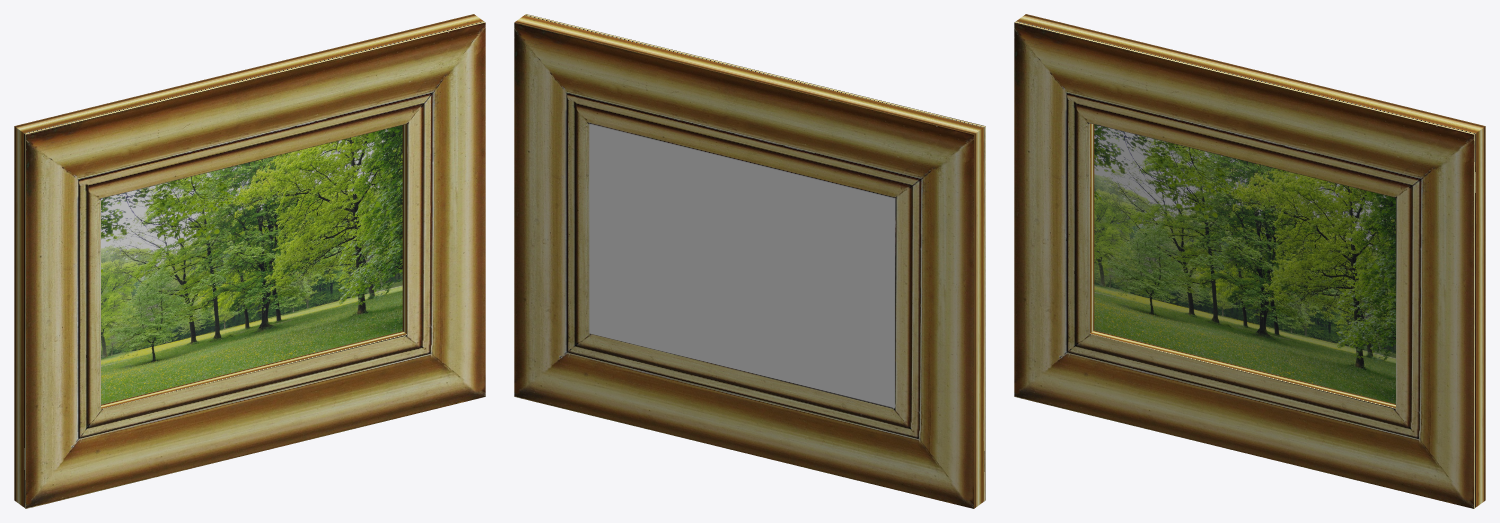
File: Frame_016.FBX
3 renders of one model, left to right at view 1: azimuth 30°, elevation 25°; view 2: azimuth 150°, elevation 25°; view 3: azimuth 330°, elevation 25°, orthographic.
Parts seen in each view (by area): view 1: Frame_016; view 2: Frame_016; view 3: Frame_016.
Boxes of the visible parts, x1,y1,x2,y2 form: Frame_016: (14,14,485,508); Frame_016: (514,14,985,508); Frame_016: (1014,14,1485,508).
Size of the model in its own units: 810 by 36 by 630.
